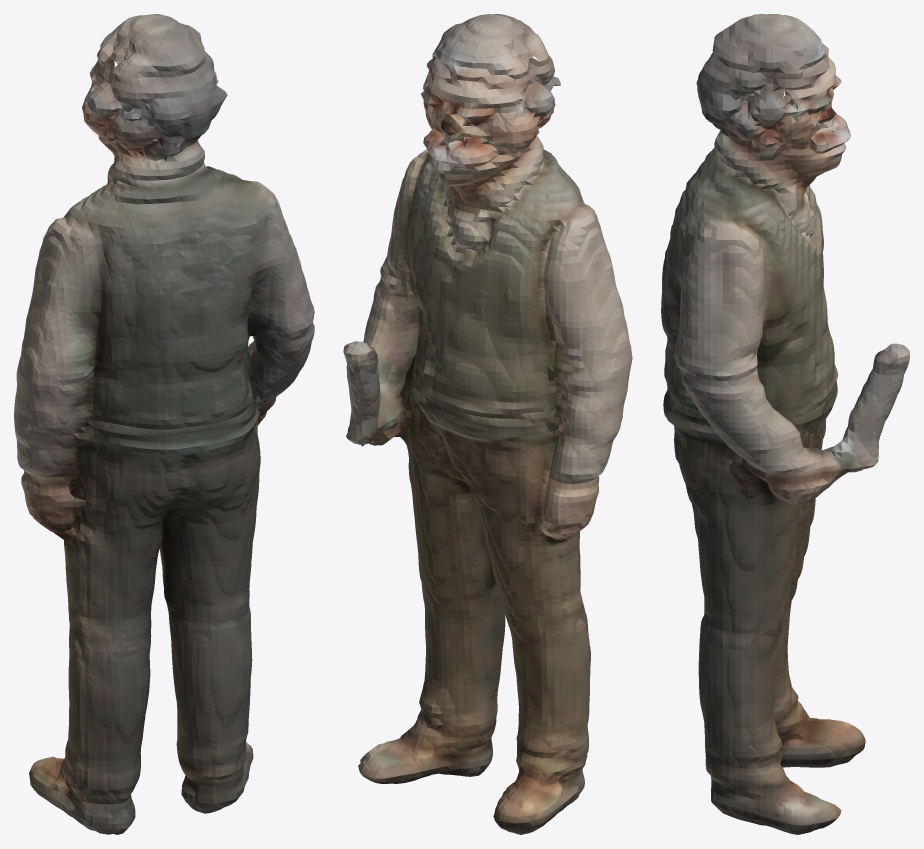
The model's file is guest-v1.glb.
3 renders of one model, left to right at view 1: azimuth 30°, elevation 25°; view 2: azimuth 150°, elevation 25°; view 3: azimuth 270°, elevation 25°, orthographic.
Visible parts, largest first — view 1: world; view 2: world; view 3: world.
Boxes of the visible parts, left/top/right/bottom form: world: left=14, top=14, right=314, bottom=834; world: left=343, top=14, right=632, bottom=834; world: left=661, top=14, right=909, bottom=834.
Bounding box in the file's own units: 0.3321 × 0.934 × 0.2719.
